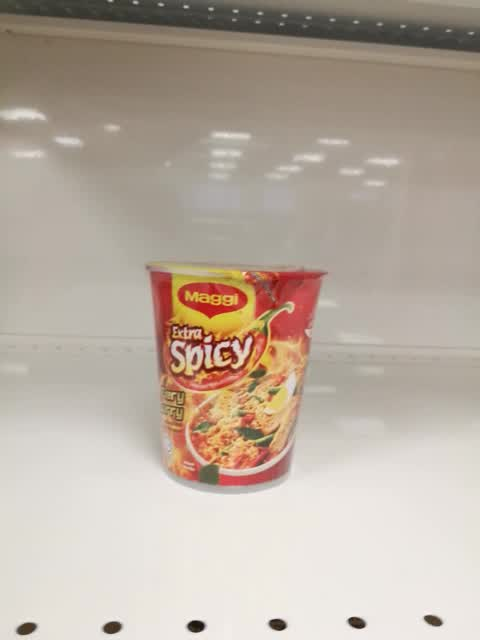maggi: (141, 258, 332, 496)
